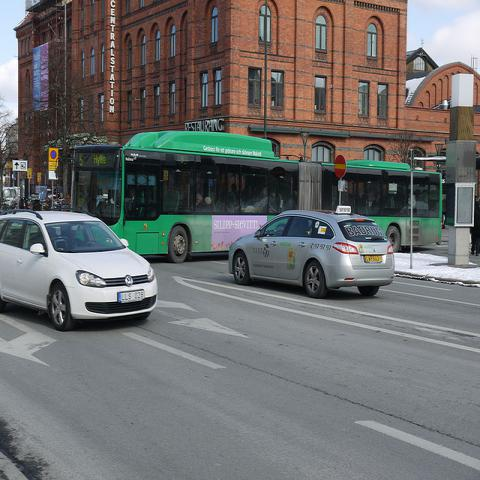bus: (66, 128, 444, 252)
car: (1, 206, 160, 330), (228, 210, 394, 297), (3, 186, 17, 212)
